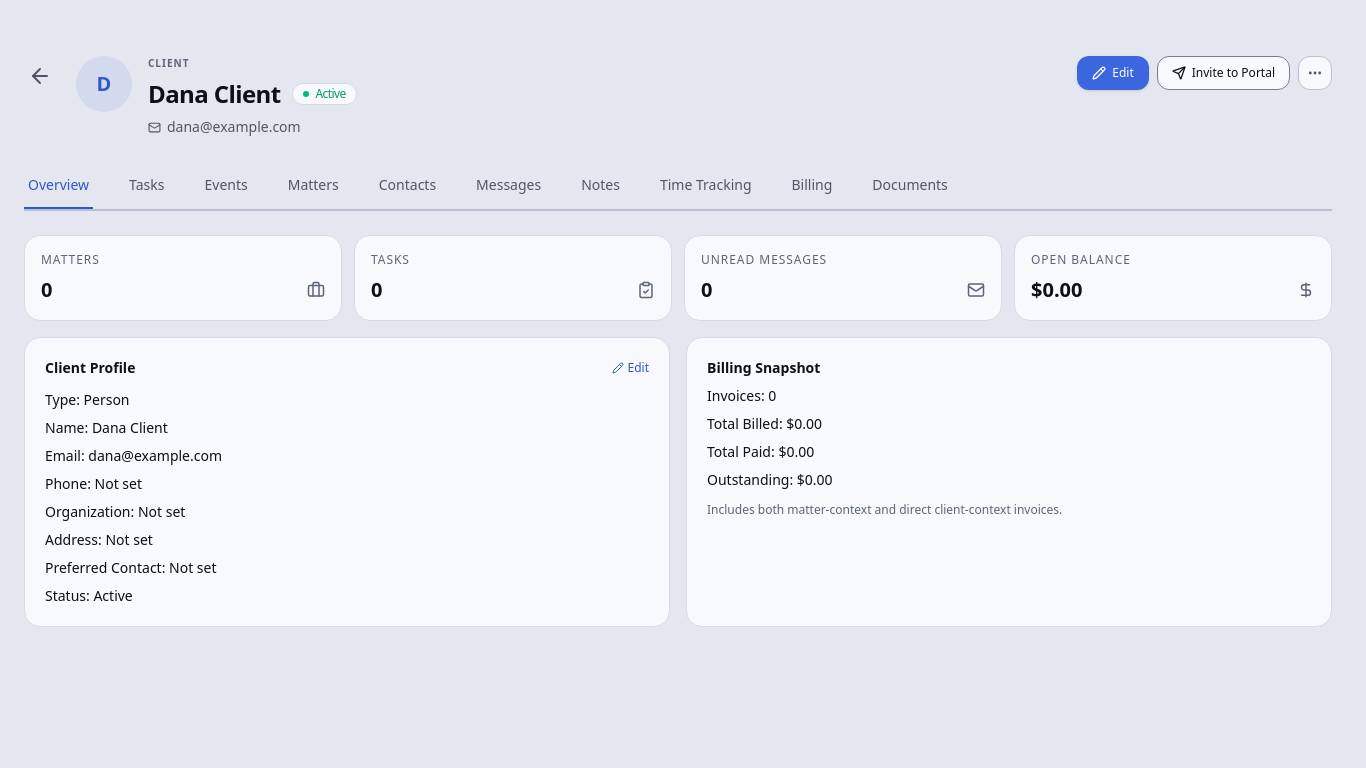
client Billing tab invoice dialog › shows a voided invoice as owing nothing
The image size is (1366, 768).
Click the button "Billing": (812, 186) x1=788 y1=163 x2=836 y2=209
(page scrolled)
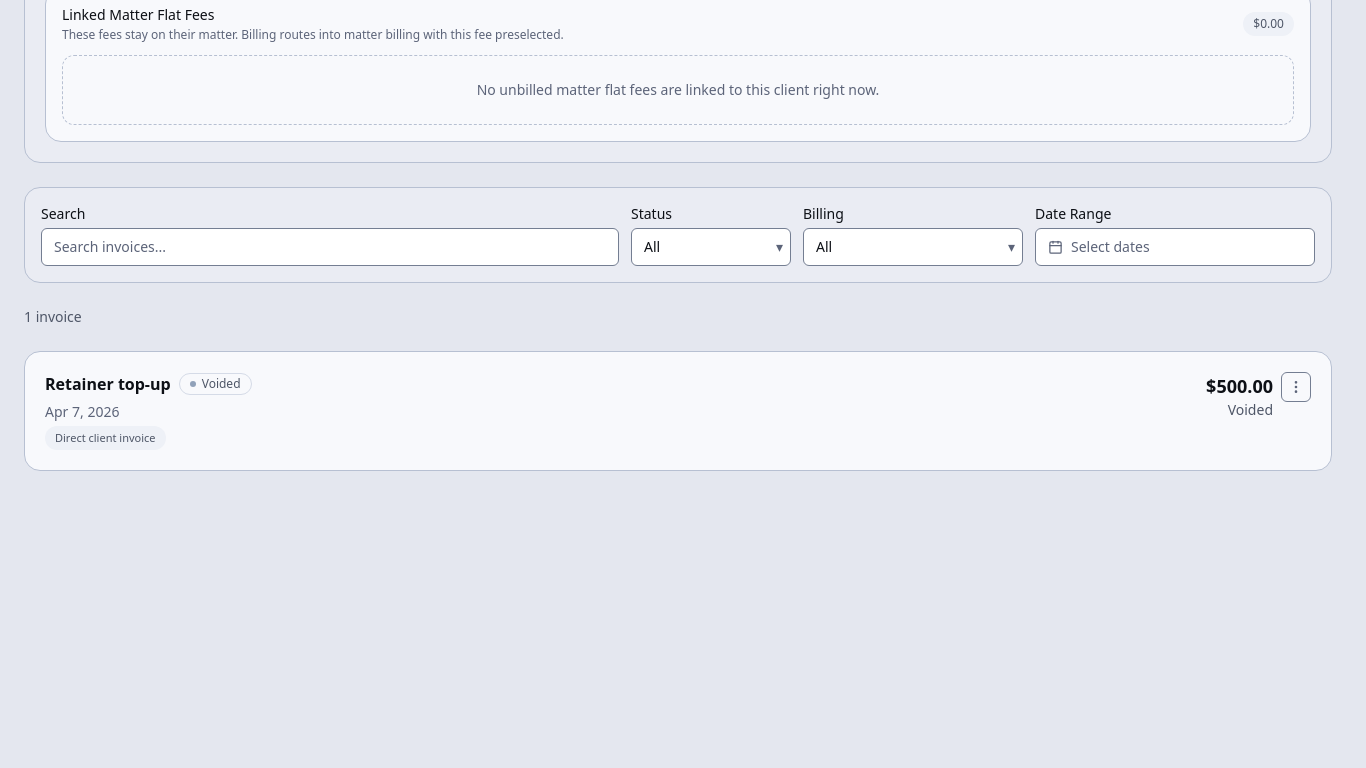
Click the text "Retainer top-up": (108, 384) x1=45 y1=372 x2=171 y2=396
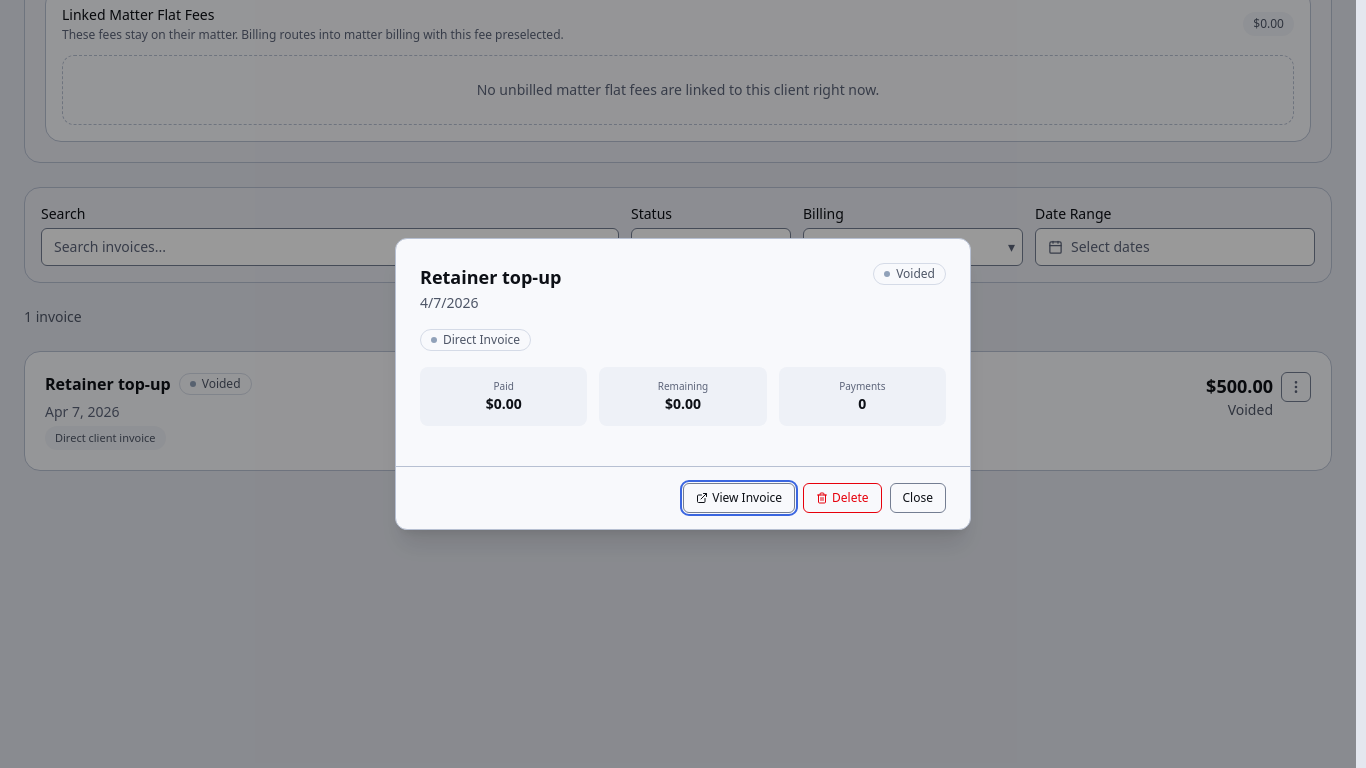
Expected: the text "$0.00" below "Remaining" is shown, x1=665 y1=394 x2=701 y2=413
